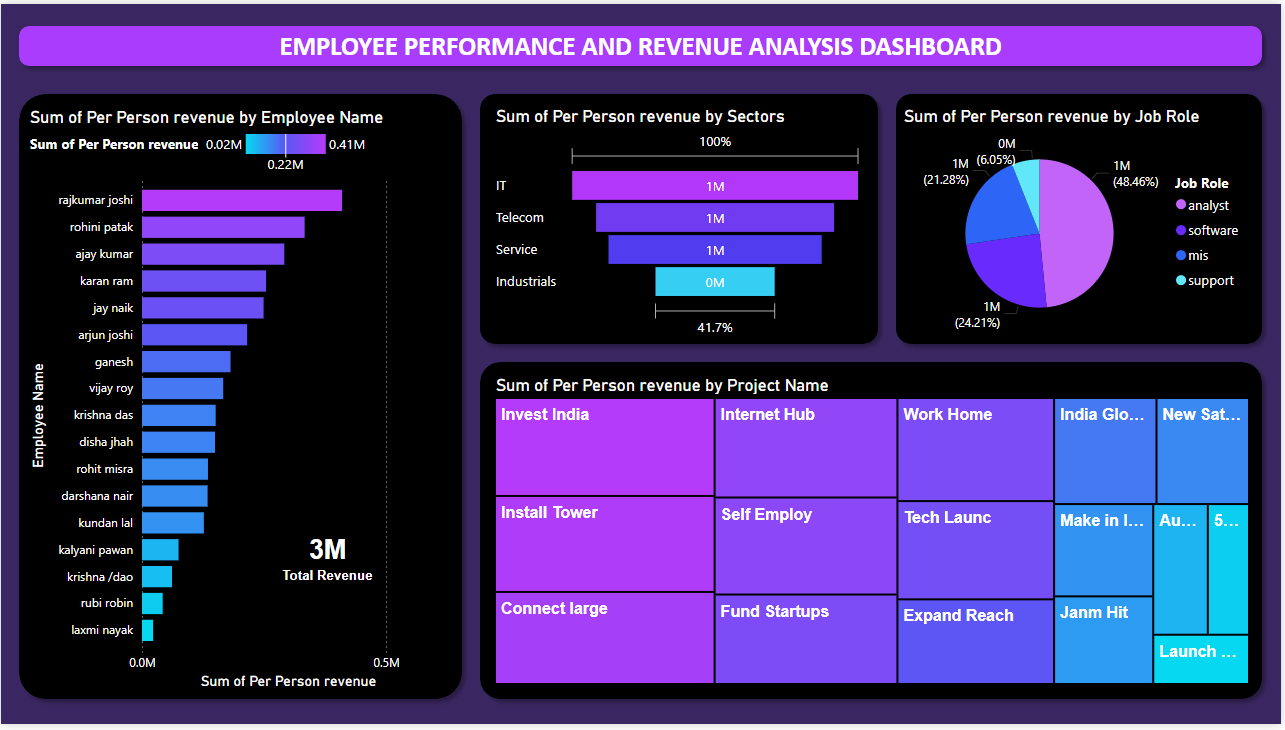

The page's visual inventory and layout, read from the dashboard file:
{"tool":"powerbi","page":{"name":"Emp","canvas":[1280,720],"ordinal":0},"visuals":[{"type":"shape","box":[470,348.6,800,355.7],"z":0},{"type":"shape","box":[9,81,461,623],"z":1000},{"type":"shape","box":[470,81,416,268],"z":2000},{"type":"shape","box":[886,81,384,268],"z":3000},{"type":"shape","box":[0,17,1261,58],"z":4000},{"type":"barChart","fields":{"Category":["Performance Details.Employee Name"],"Y":["Sum(Performance Details.Per Person revenue)"]},"box":[24,103,429,587],"z":5000},{"type":"funnel","fields":{"Category":["Performance Details.Sectors"],"Y":["Sum(Performance Details.Per Person revenue)"]},"box":[490,102.2,376.7,235.6],"z":6000},{"type":"treemap","fields":{"Group":["Performance Details.Project Name","Performance Details.Sectors"],"Values":["Sum(Performance Details.Per Person revenue)"]},"box":[490,371.4,762.1,312.9],"z":7000},{"type":"pieChart","fields":{"Category":["Performance Details.Job Role"],"Y":["Sum(Performance Details.Per Person revenue)"]},"box":[897.8,102.2,354.4,235.6],"z":8000},{"type":"textbox","box":[272,526,109,61],"z":9000},{"type":"card","fields":{"Values":["Sum(Performance Details.Per Person revenue)"]},"box":[239.7,506.3,140.9,100.5],"z":10000}]}

Visuals, with their boxes in screenshot pixels (x1, y1, x2, y2), scaled from the page's 1280x720 canvas onto the 1285x730 screenshot:
shape: left=472, top=353, right=1275, bottom=714
shape: left=9, top=82, right=472, bottom=714
shape: left=472, top=82, right=889, bottom=354
shape: left=889, top=82, right=1275, bottom=354
shape: left=0, top=17, right=1266, bottom=76
barChart - Performance Details.Employee Name x Sum(Performance Details.Per Person revenue): left=24, top=104, right=455, bottom=700
funnel - Performance Details.Sectors x Sum(Performance Details.Per Person revenue): left=492, top=104, right=870, bottom=342
treemap - Performance Details.Project Name x Performance Details.Sectors: left=492, top=377, right=1257, bottom=694
pieChart - Performance Details.Job Role x Sum(Performance Details.Per Person revenue): left=901, top=104, right=1257, bottom=342
textbox: left=273, top=533, right=382, bottom=595
card - Sum(Performance Details.Per Person revenue): left=241, top=513, right=382, bottom=615
